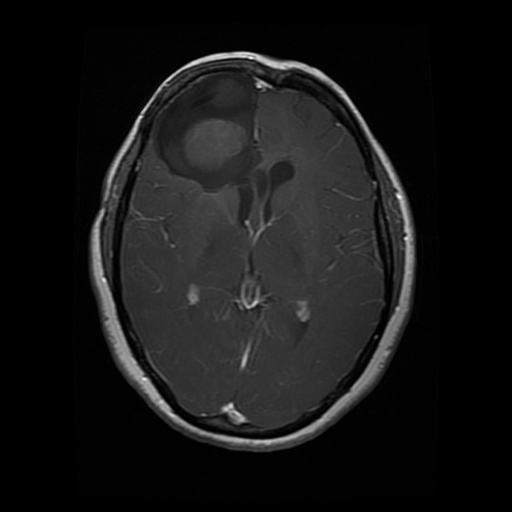glioma: (154, 73, 300, 233)
